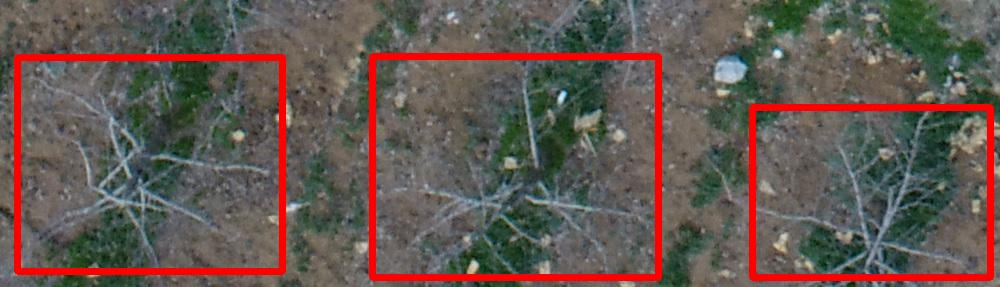apple: (372, 56, 658, 277), (17, 57, 282, 271), (752, 107, 990, 277)
